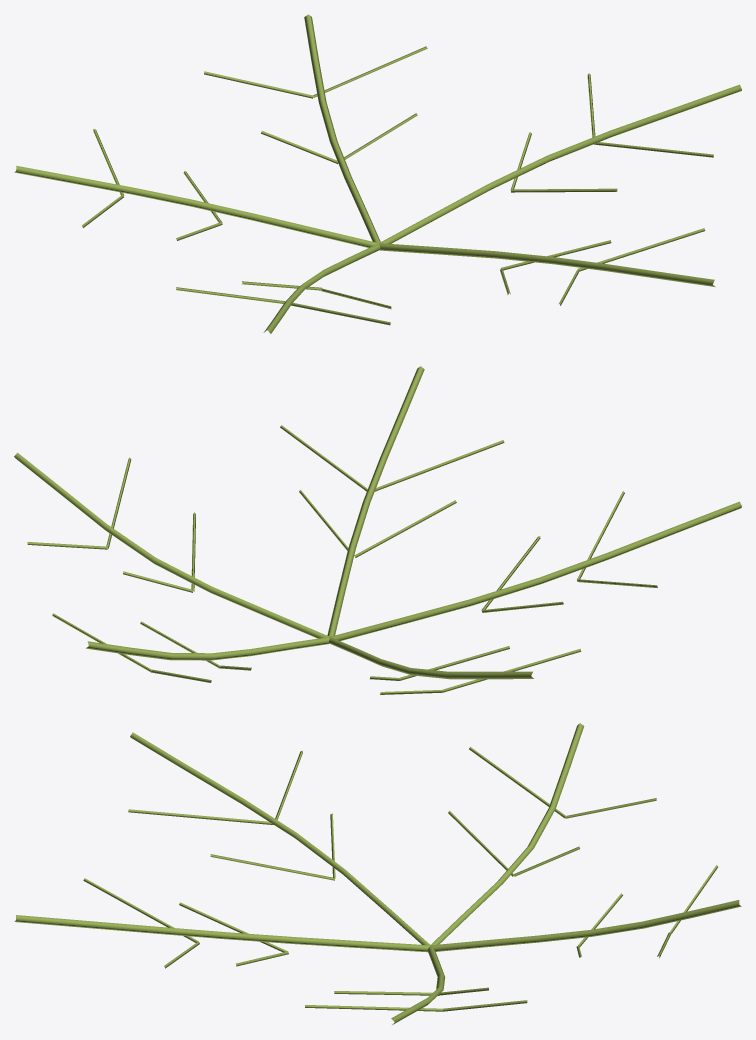
Rendered from leaf-veins.glb.
3 renders of one model, top to bottom at view 1: azimuth 30°, elevation 25°; view 2: azimuth 150°, elevation 25°; view 3: azimuth 270°, elevation 25°, orthographic. The views are drawn at different scales.
Bounding box in the file's own units: 0.4789 × 0.0711 × 0.4956.
